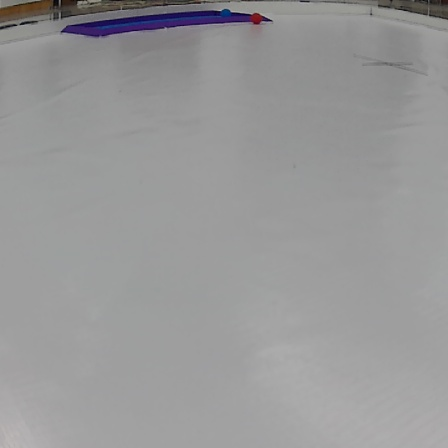blue: (219, 7, 232, 18)
blue_aim: (62, 6, 276, 36)
red: (251, 12, 261, 25)
